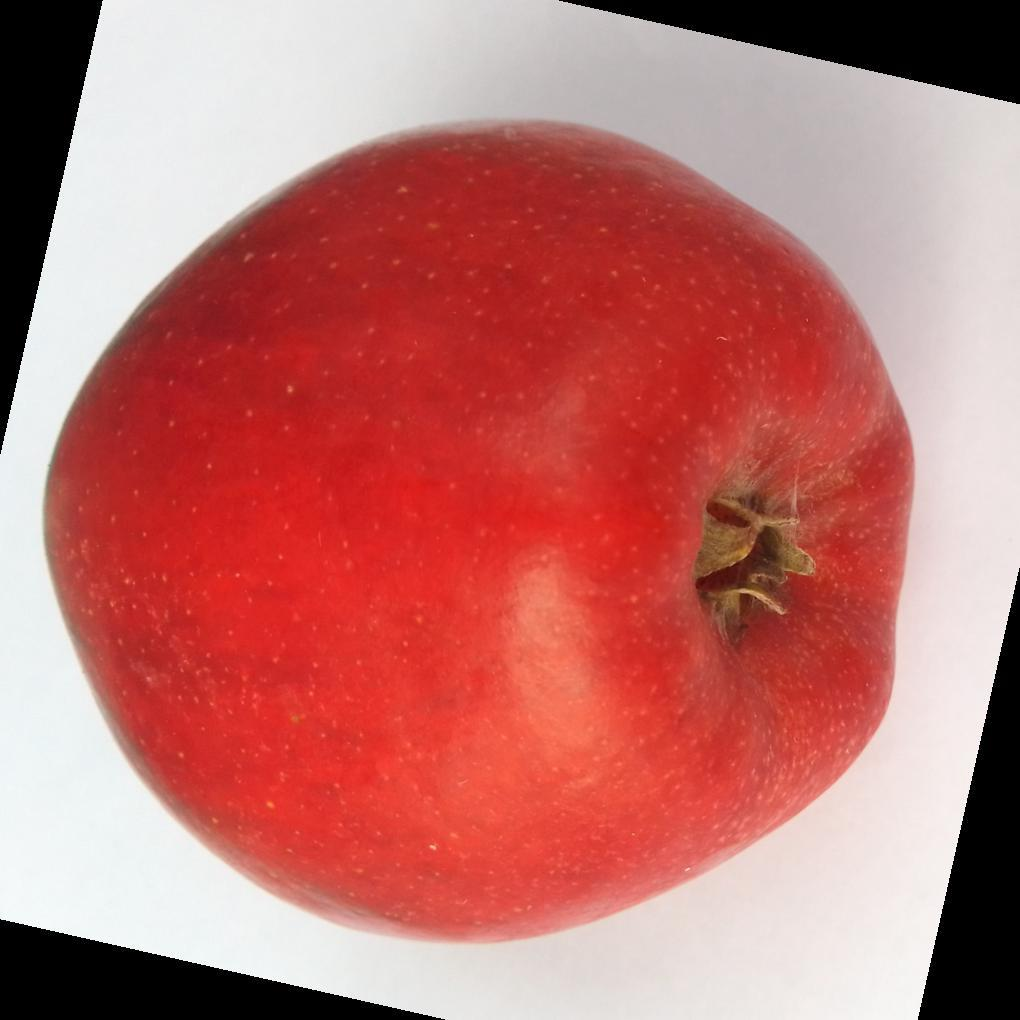FreshGuava: (43, 120, 915, 948)
